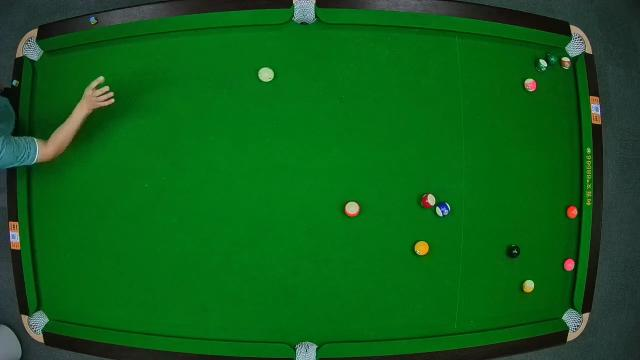bag1: (22, 38, 44, 60)
bag2: (291, 0, 317, 26)
bag3: (566, 29, 588, 57)
bag4: (29, 310, 49, 334)
bag5: (294, 340, 318, 360)
bag6: (563, 308, 585, 332)
ball0: (258, 67, 274, 83)
ball1: (415, 240, 429, 256)
ball10: (435, 202, 451, 218)
ball11: (421, 193, 435, 207)
ball12: (524, 76, 538, 92)
ball13: (344, 200, 361, 218)
ball14: (536, 59, 548, 73)
ball15: (560, 54, 572, 70)
ball4: (563, 258, 577, 272)
ball5: (566, 204, 580, 220)
ball6: (546, 53, 558, 65)
ball8: (506, 244, 522, 260)
ball9: (522, 280, 536, 294)
